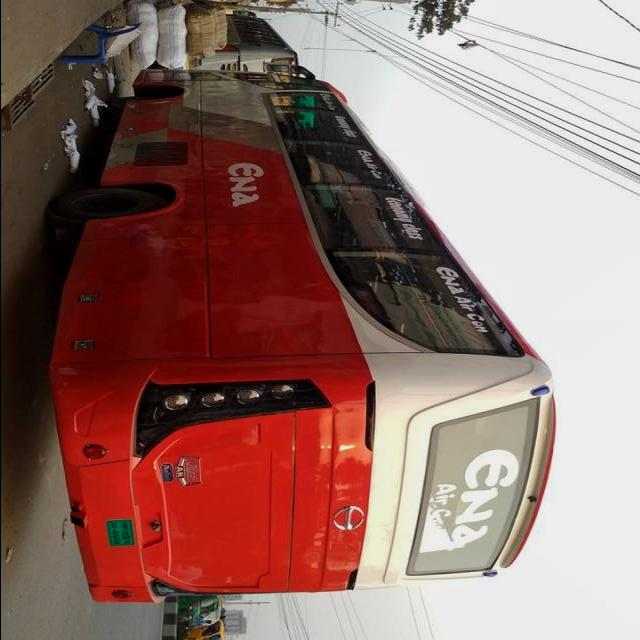bus: (43, 64, 561, 609)
